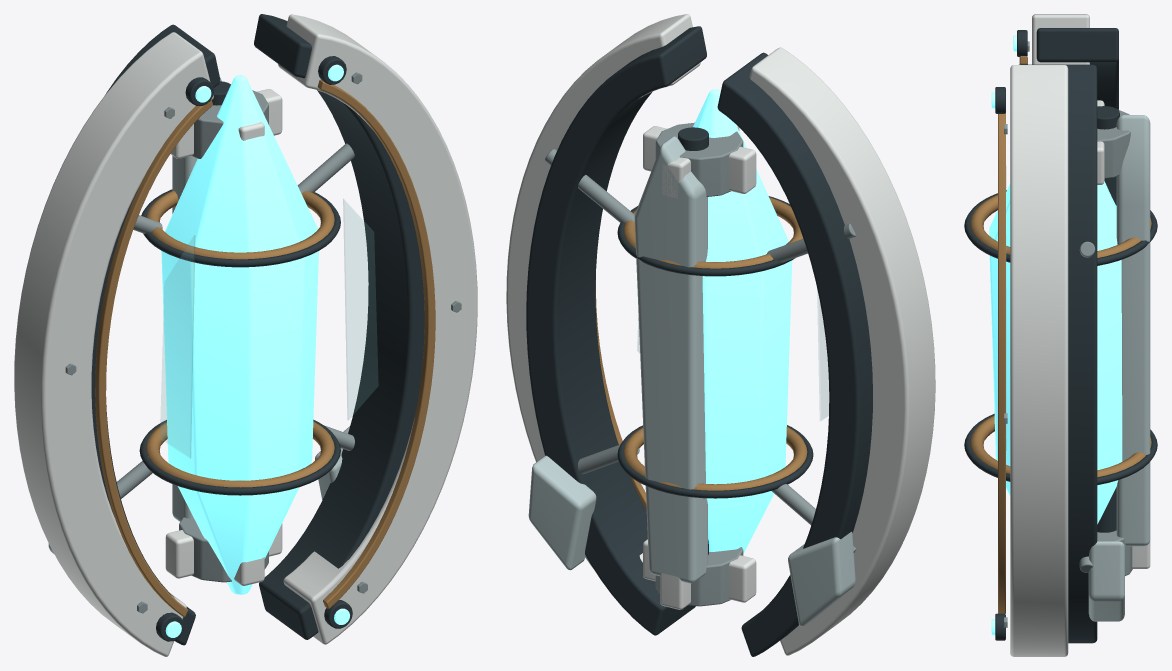
File: phase-core.glb
3 views of the same model, side by side, from view 1: azimuth 30°, elevation 25°; view 2: azimuth 150°, elevation 25°; view 3: azimuth 270°, elevation 25° (orthographic). The views are drawn at different scales.
Visible parts, largest first — view 1: Orbital_Ceramic | authored assembly, Core_Emitter, Orbital_Graphite | authored assembly, Orbital_Copper | authored assembly, Orbital_OpticalGlass | authored assembly, Orbital_MachinedMetal | authored assembly, Orbital_CoolCeramic | authored assembly, Orbital_Plasma | authored assembly; view 2: Orbital_Graphite | authored assembly, Orbital_Ceramic | authored assembly, Orbital_CoolCeramic | authored assembly, Core_Emitter, Orbital_MachinedMetal | authored assembly, Orbital_Copper | authored assembly, Orbital_OpticalGlass | authored assembly; view 3: Orbital_Ceramic | authored assembly, Orbital_Graphite | authored assembly, Orbital_CoolCeramic | authored assembly, Core_Emitter, Orbital_Copper | authored assembly, Orbital_MachinedMetal | authored assembly.
Part boxes in pixels (left/top/right/bottom): Orbital_Ceramic | authored assembly: left=14, top=14, right=477, bottom=656; Core_Emitter: left=161, top=75, right=318, bottom=594; Orbital_Graphite | authored assembly: left=91, top=14, right=424, bottom=645; Orbital_Copper | authored assembly: left=95, top=79, right=435, bottom=617; Orbital_OpticalGlass | authored assembly: left=160, top=199, right=378, bottom=458; Orbital_MachinedMetal | authored assembly: left=65, top=72, right=461, bottom=613; Orbital_CoolCeramic | authored assembly: left=48, top=77, right=349, bottom=554; Orbital_Plasma | authored assembly: left=165, top=64, right=349, bottom=637; Orbital_Graphite | authored assembly: left=526, top=26, right=872, bottom=656; Orbital_Ceramic | authored assembly: left=506, top=14, right=935, bottom=655; Orbital_CoolCeramic | authored assembly: left=528, top=136, right=855, bottom=626; Core_Emitter: left=693, top=89, right=792, bottom=553; Orbital_MachinedMetal | authored assembly: left=545, top=122, right=855, bottom=606; Orbital_Copper | authored assembly: left=595, top=197, right=807, bottom=510; Orbital_OpticalGlass | authored assembly: left=637, top=290, right=828, bottom=420; Orbital_Ceramic | authored assembly: left=1010, top=14, right=1150, bottom=656; Orbital_Graphite | authored assembly: left=964, top=28, right=1157, bottom=643; Orbital_CoolCeramic | authored assembly: left=1088, top=115, right=1150, bottom=621; Core_Emitter: left=989, top=181, right=1122, bottom=524; Orbital_Copper | authored assembly: left=970, top=56, right=1151, bottom=613; Orbital_MachinedMetal | authored assembly: left=1004, top=41, right=1132, bottom=627.
Size of the model in its own units: 1.05 by 1.45 by 0.4322.
